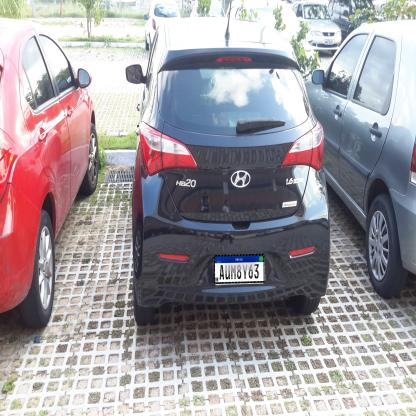PlacaM: (214, 254, 265, 284)
